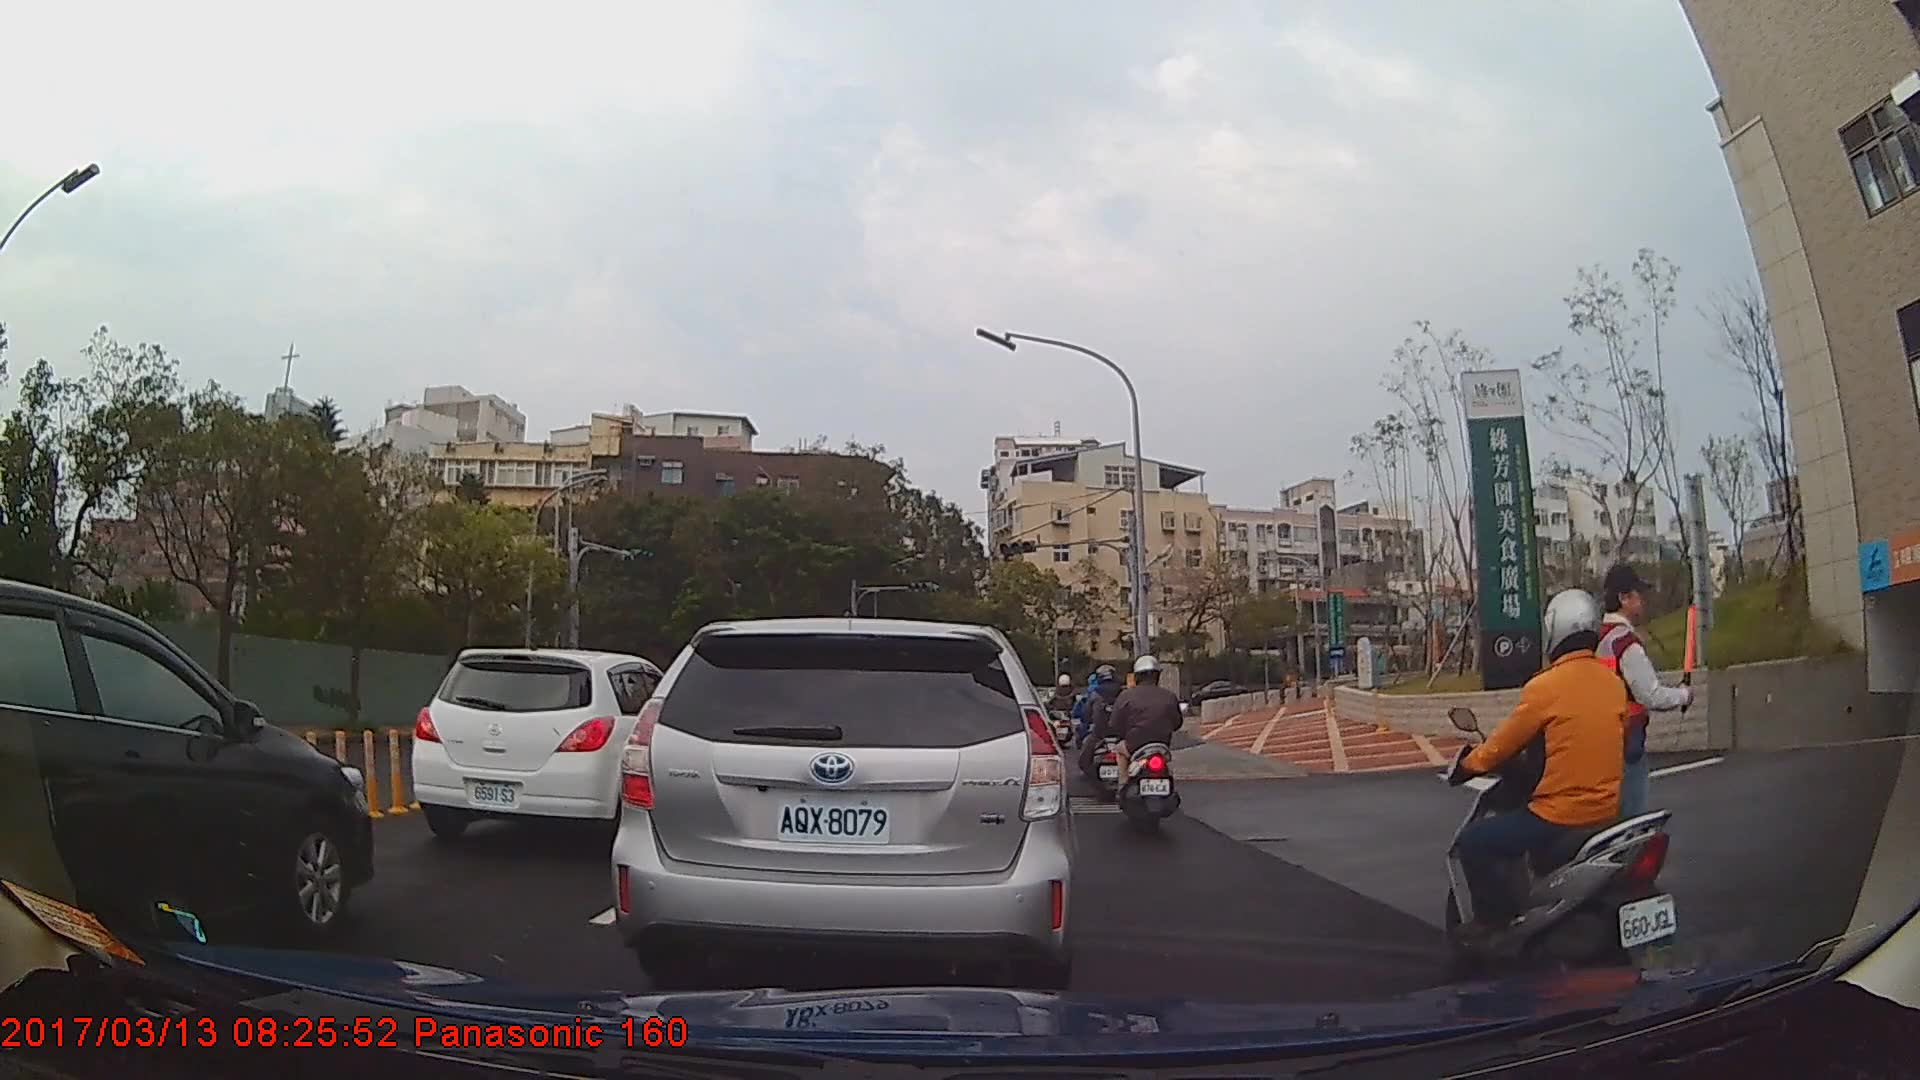pedestrian: (1562, 569, 1702, 926)
rider: (1442, 584, 1680, 998), (1116, 650, 1190, 846), (1081, 665, 1130, 797), (1045, 671, 1076, 753)
vehicle: (611, 619, 1071, 984), (0, 577, 375, 959), (410, 648, 713, 845), (1182, 677, 1250, 710)
